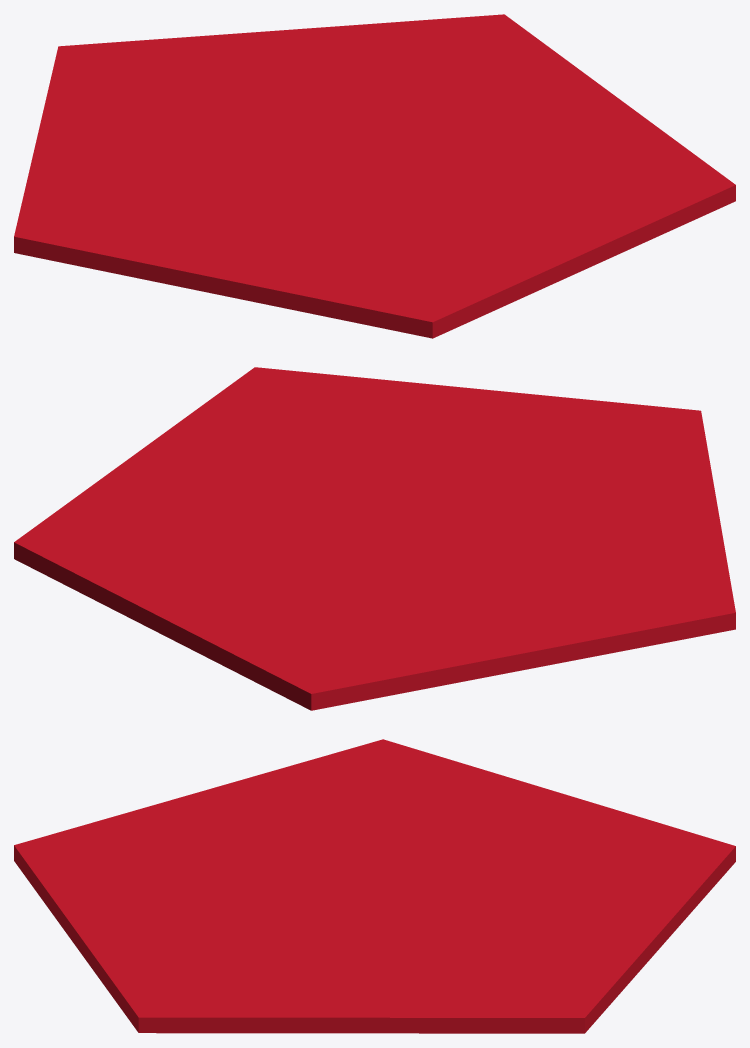
The model's file is star3.dae.
3 views of the same model, one above another, from view 1: azimuth 30°, elevation 25°; view 2: azimuth 150°, elevation 25°; view 3: azimuth 270°, elevation 25° (orthographic). The views are drawn at different scales.
Visible parts, largest first — view 1: Cylinder; view 2: Cylinder; view 3: Cylinder.
Part boxes in pixels (bbox=[...]): Cylinder: bbox=[14, 14, 735, 338]; Cylinder: bbox=[14, 367, 735, 710]; Cylinder: bbox=[14, 739, 735, 1033].
Size of the model in its own units: 1.91 by 2.09 by 0.05.
